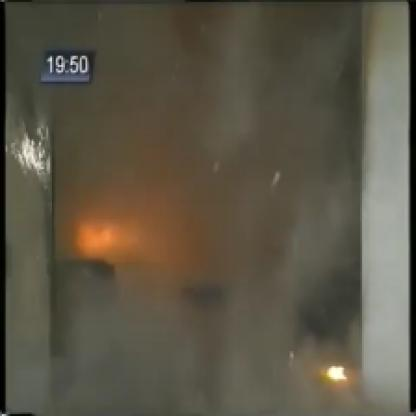fire: (61, 191, 148, 293), (312, 332, 370, 402)
